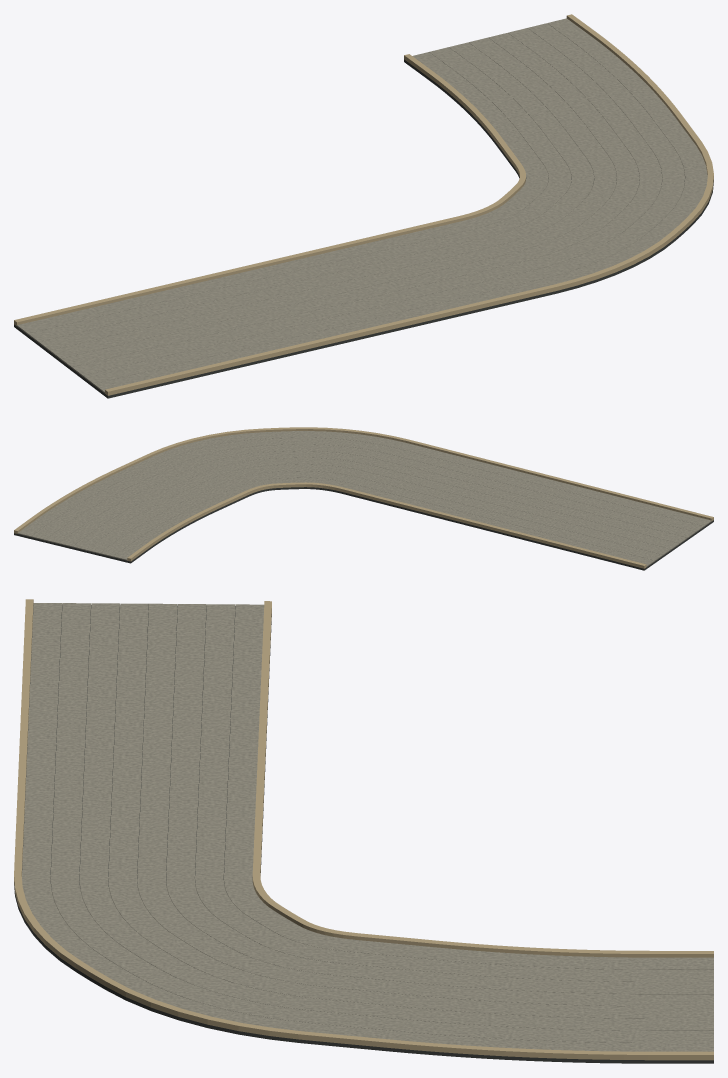
The model's file is track_main_13.fbx.
The picture shows the model from 3 angles, top to bottom: view 1: azimuth 30°, elevation 25°; view 2: azimuth 150°, elevation 25°; view 3: azimuth 270°, elevation 25°; orthographic projection. The views are drawn at different scales.
Visible parts, largest first — view 1: roman_concrete.001, travertine.001, basalt.001; view 2: roman_concrete.001, travertine.001, basalt.001; view 3: roman_concrete.001, travertine.001, basalt.001.
Part boxes in pixels (left/top/right/bottom): roman_concrete.001: left=17, top=18, right=707, bottom=393; travertine.001: left=14, top=14, right=713, bottom=395; basalt.001: left=14, top=59, right=713, bottom=398; roman_concrete.001: left=17, top=431, right=711, bottom=566; travertine.001: left=14, top=427, right=713, bottom=568; basalt.001: left=14, top=487, right=713, bottom=570; roman_concrete.001: left=22, top=603, right=713, bottom=1051; travertine.001: left=14, top=599, right=713, bottom=1060; basalt.001: left=14, top=605, right=713, bottom=1063.
Size of the model in its own units: 448170 by 290946 by 4000.
